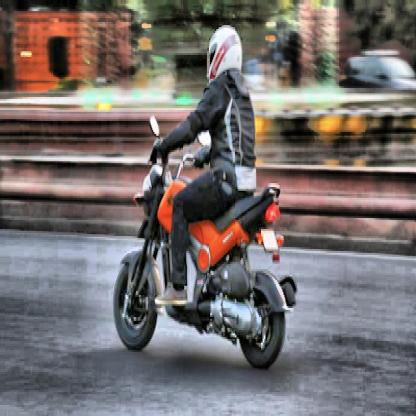wear: (208, 25, 240, 86)
